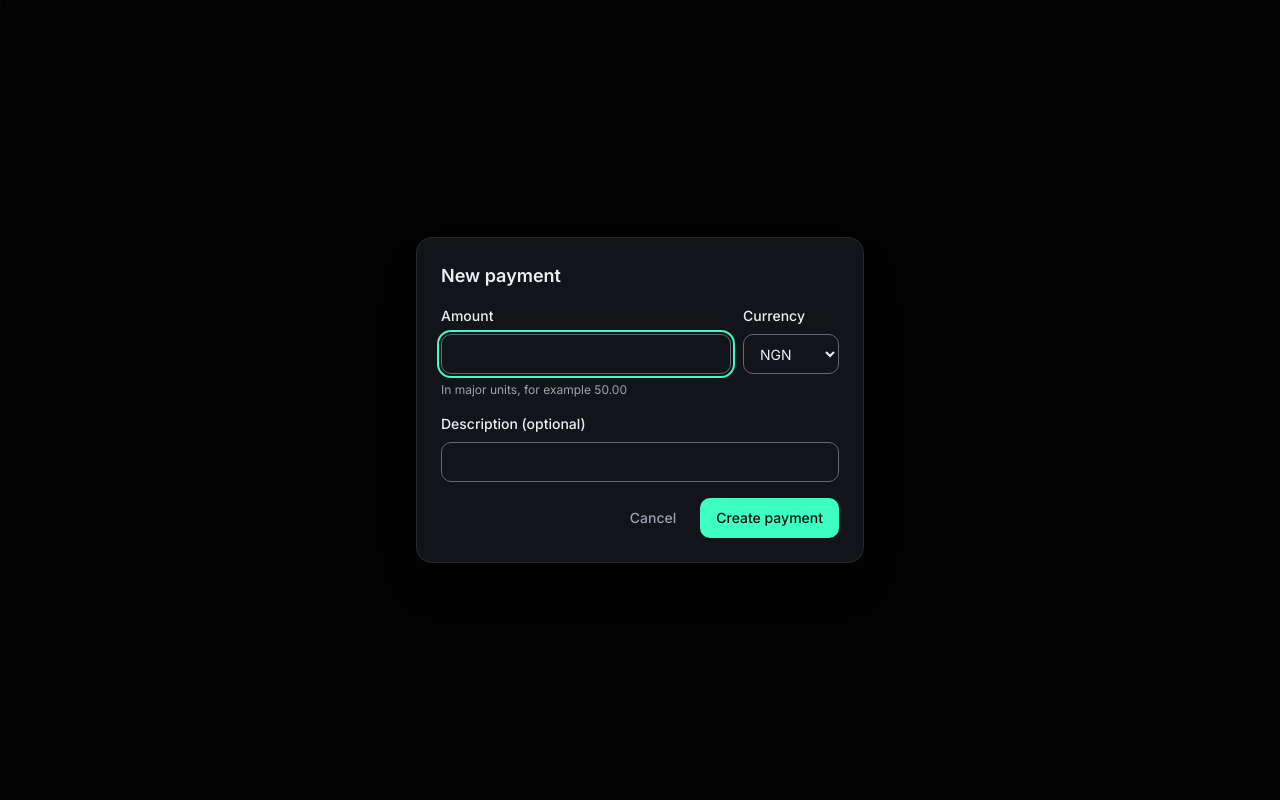
Test: CreatePaymentModal › validates locally and sends nothing for a bad amount
The width and height of the screenshot is (1280, 800).
Type "1.234" into the field labelled "Amount" at (586, 354), box [441, 334, 731, 374]
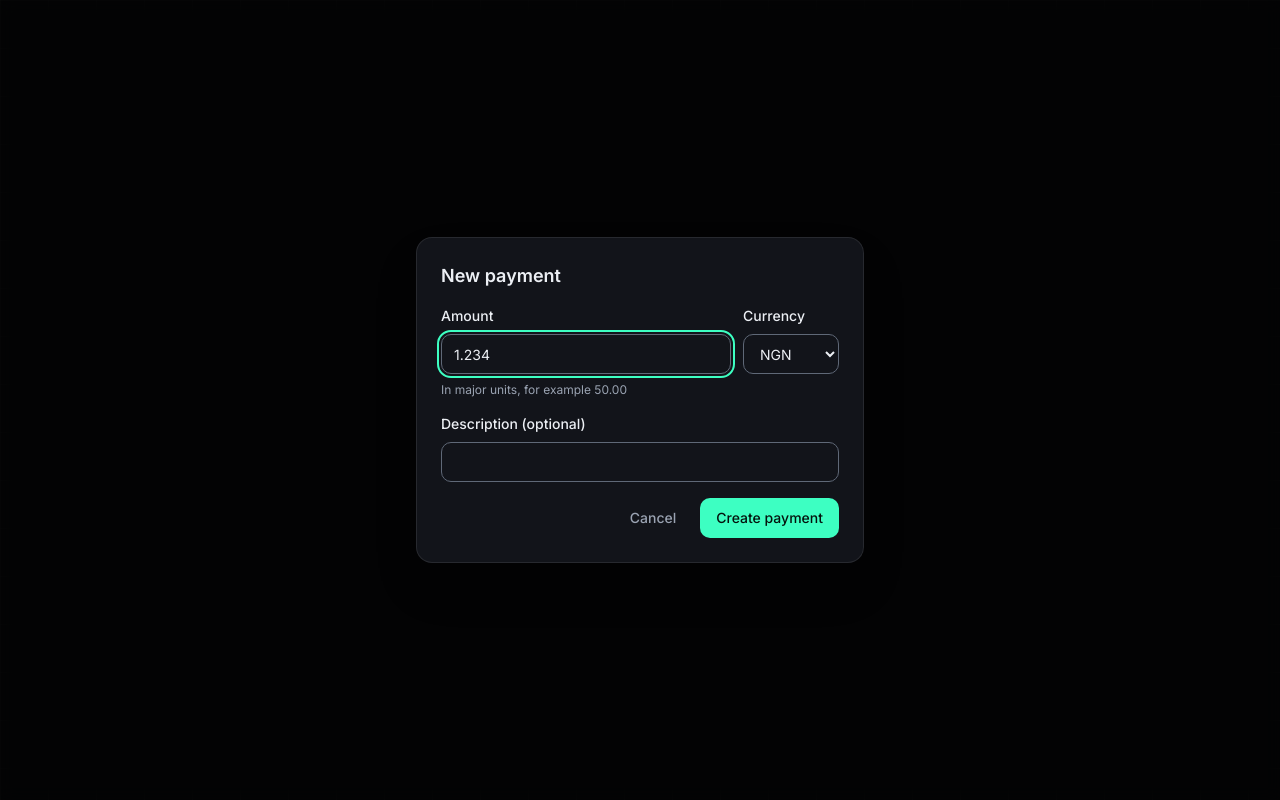
Click the button "Create payment" at (770, 518), box [700, 498, 839, 538]
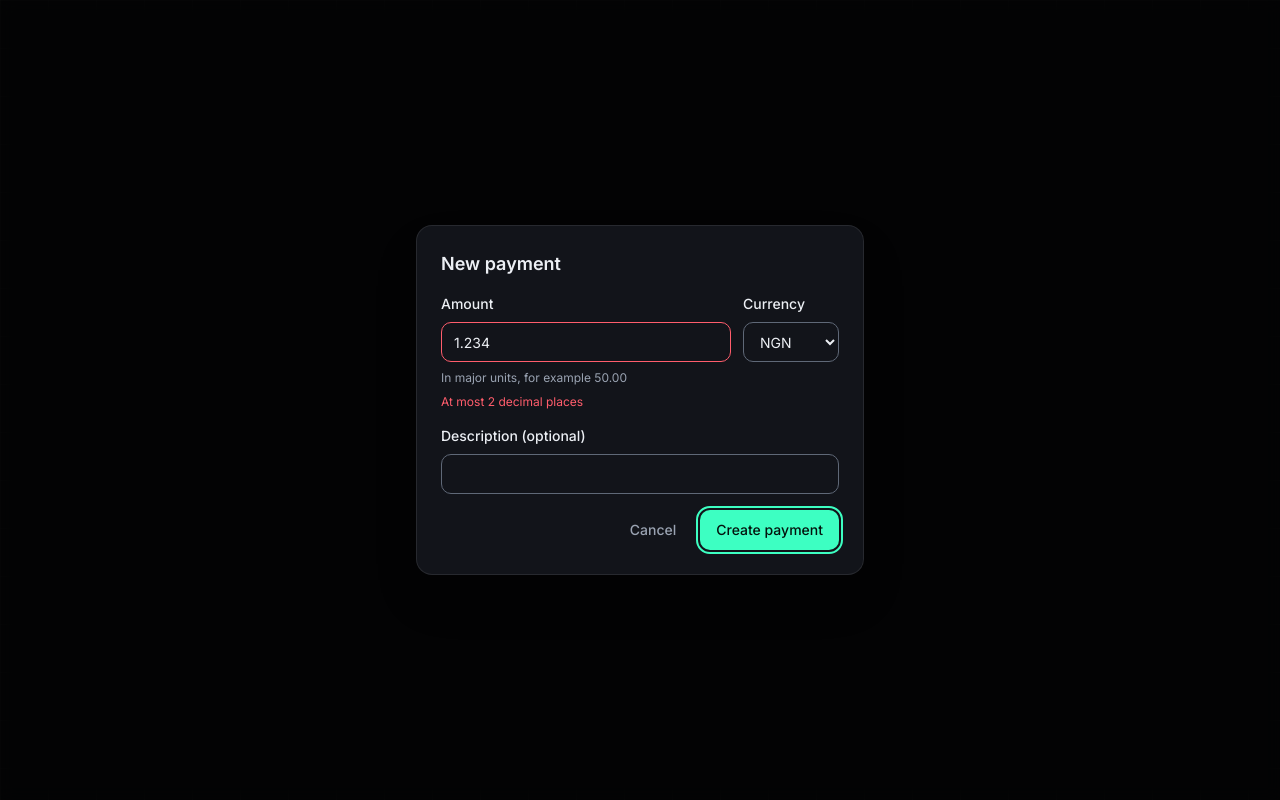
expect the text "At most 2 decimal places" is shown: met, box [441, 394, 583, 409]
